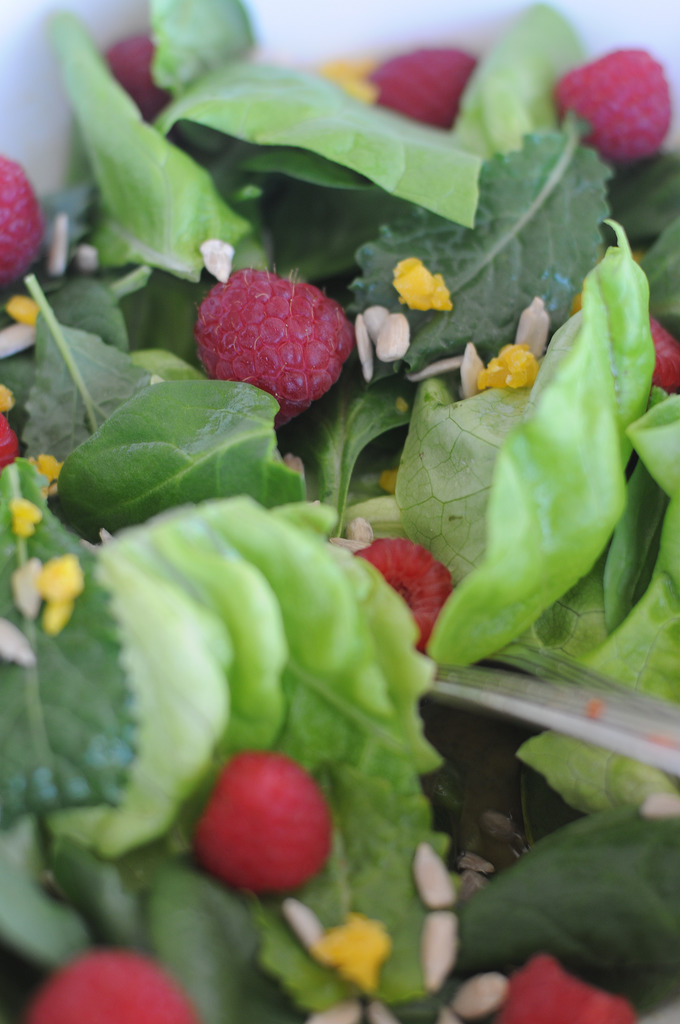chopped lettuce: (26, 20, 658, 1013)
